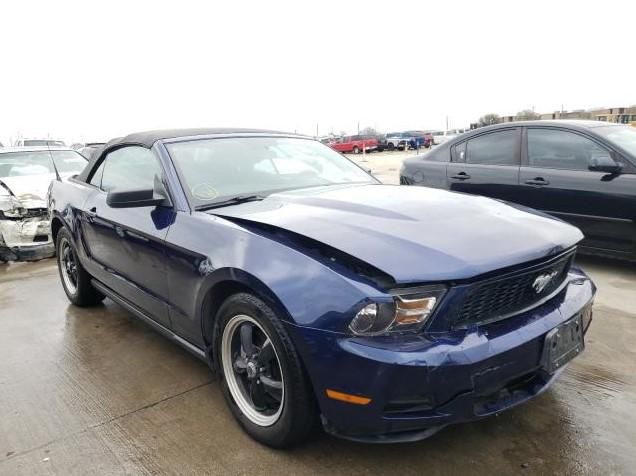Back-wheel: (56, 228, 105, 304)
Fender: (164, 211, 395, 350)
Front-bumper: (287, 268, 597, 444)
Front-door: (83, 143, 176, 331)
Front-wheel: (213, 294, 320, 449)
Front-window: (89, 145, 175, 209)
Grille: (454, 250, 576, 327)
Headlight: (349, 285, 449, 338)
Hood: (199, 183, 585, 284)
Mirror: (107, 176, 172, 209)
Quarter-panel: (46, 175, 96, 279)
Rocker-panel: (89, 276, 206, 362)
Roof: (117, 128, 312, 149)
Windshield: (164, 136, 381, 211)
